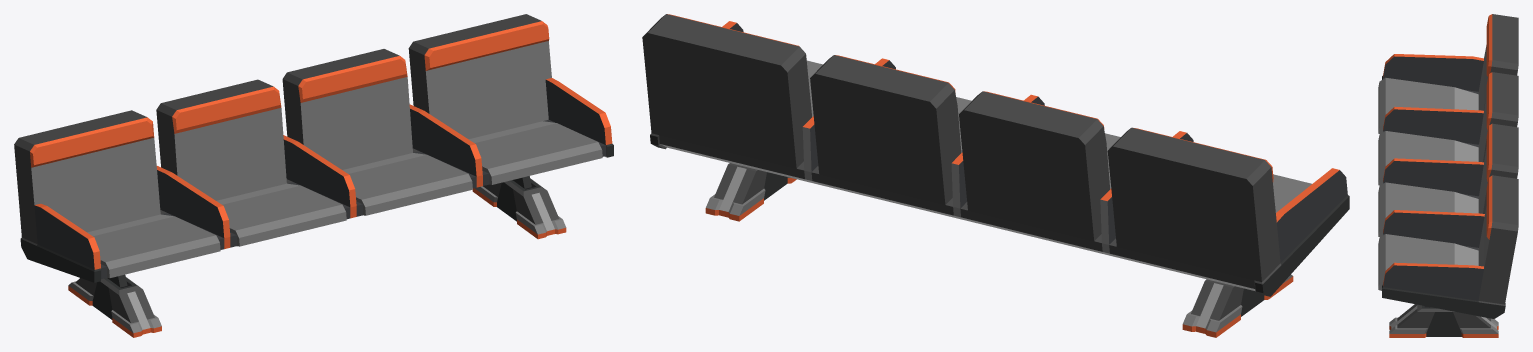
Rendered from Seats_01.glb.
3 views of the same model, side by side, from view 1: azimuth 30°, elevation 25°; view 2: azimuth 150°, elevation 25°; view 3: azimuth 270°, elevation 25° (orthographic). The views are drawn at different scales.
Parts seen in each view (by area): view 1: Seats_01; view 2: Seats_01; view 3: Seats_01.
Part boxes in pixels (x1,y1,x2,y2): Seats_01: (14,14,613,337); Seats_01: (642,14,1349,337); Seats_01: (1378,14,1518,337).
Size of what is drawn, in the model's own units: 3.6 by 1.04 by 1.01.
1 material, 1 textured.
